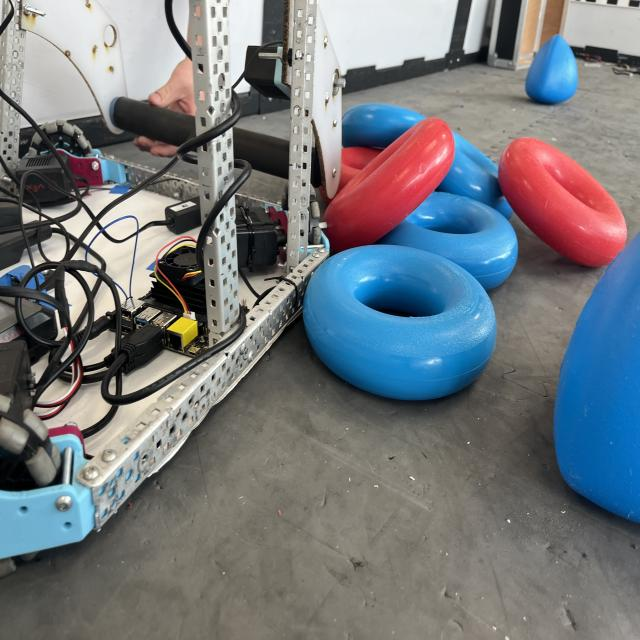Blue-Ring: (304, 245, 496, 400), (378, 192, 518, 290), (436, 132, 512, 218), (342, 103, 425, 148), (475, 235, 476, 238)
Red-Ring: (325, 118, 455, 252), (499, 137, 626, 267)
